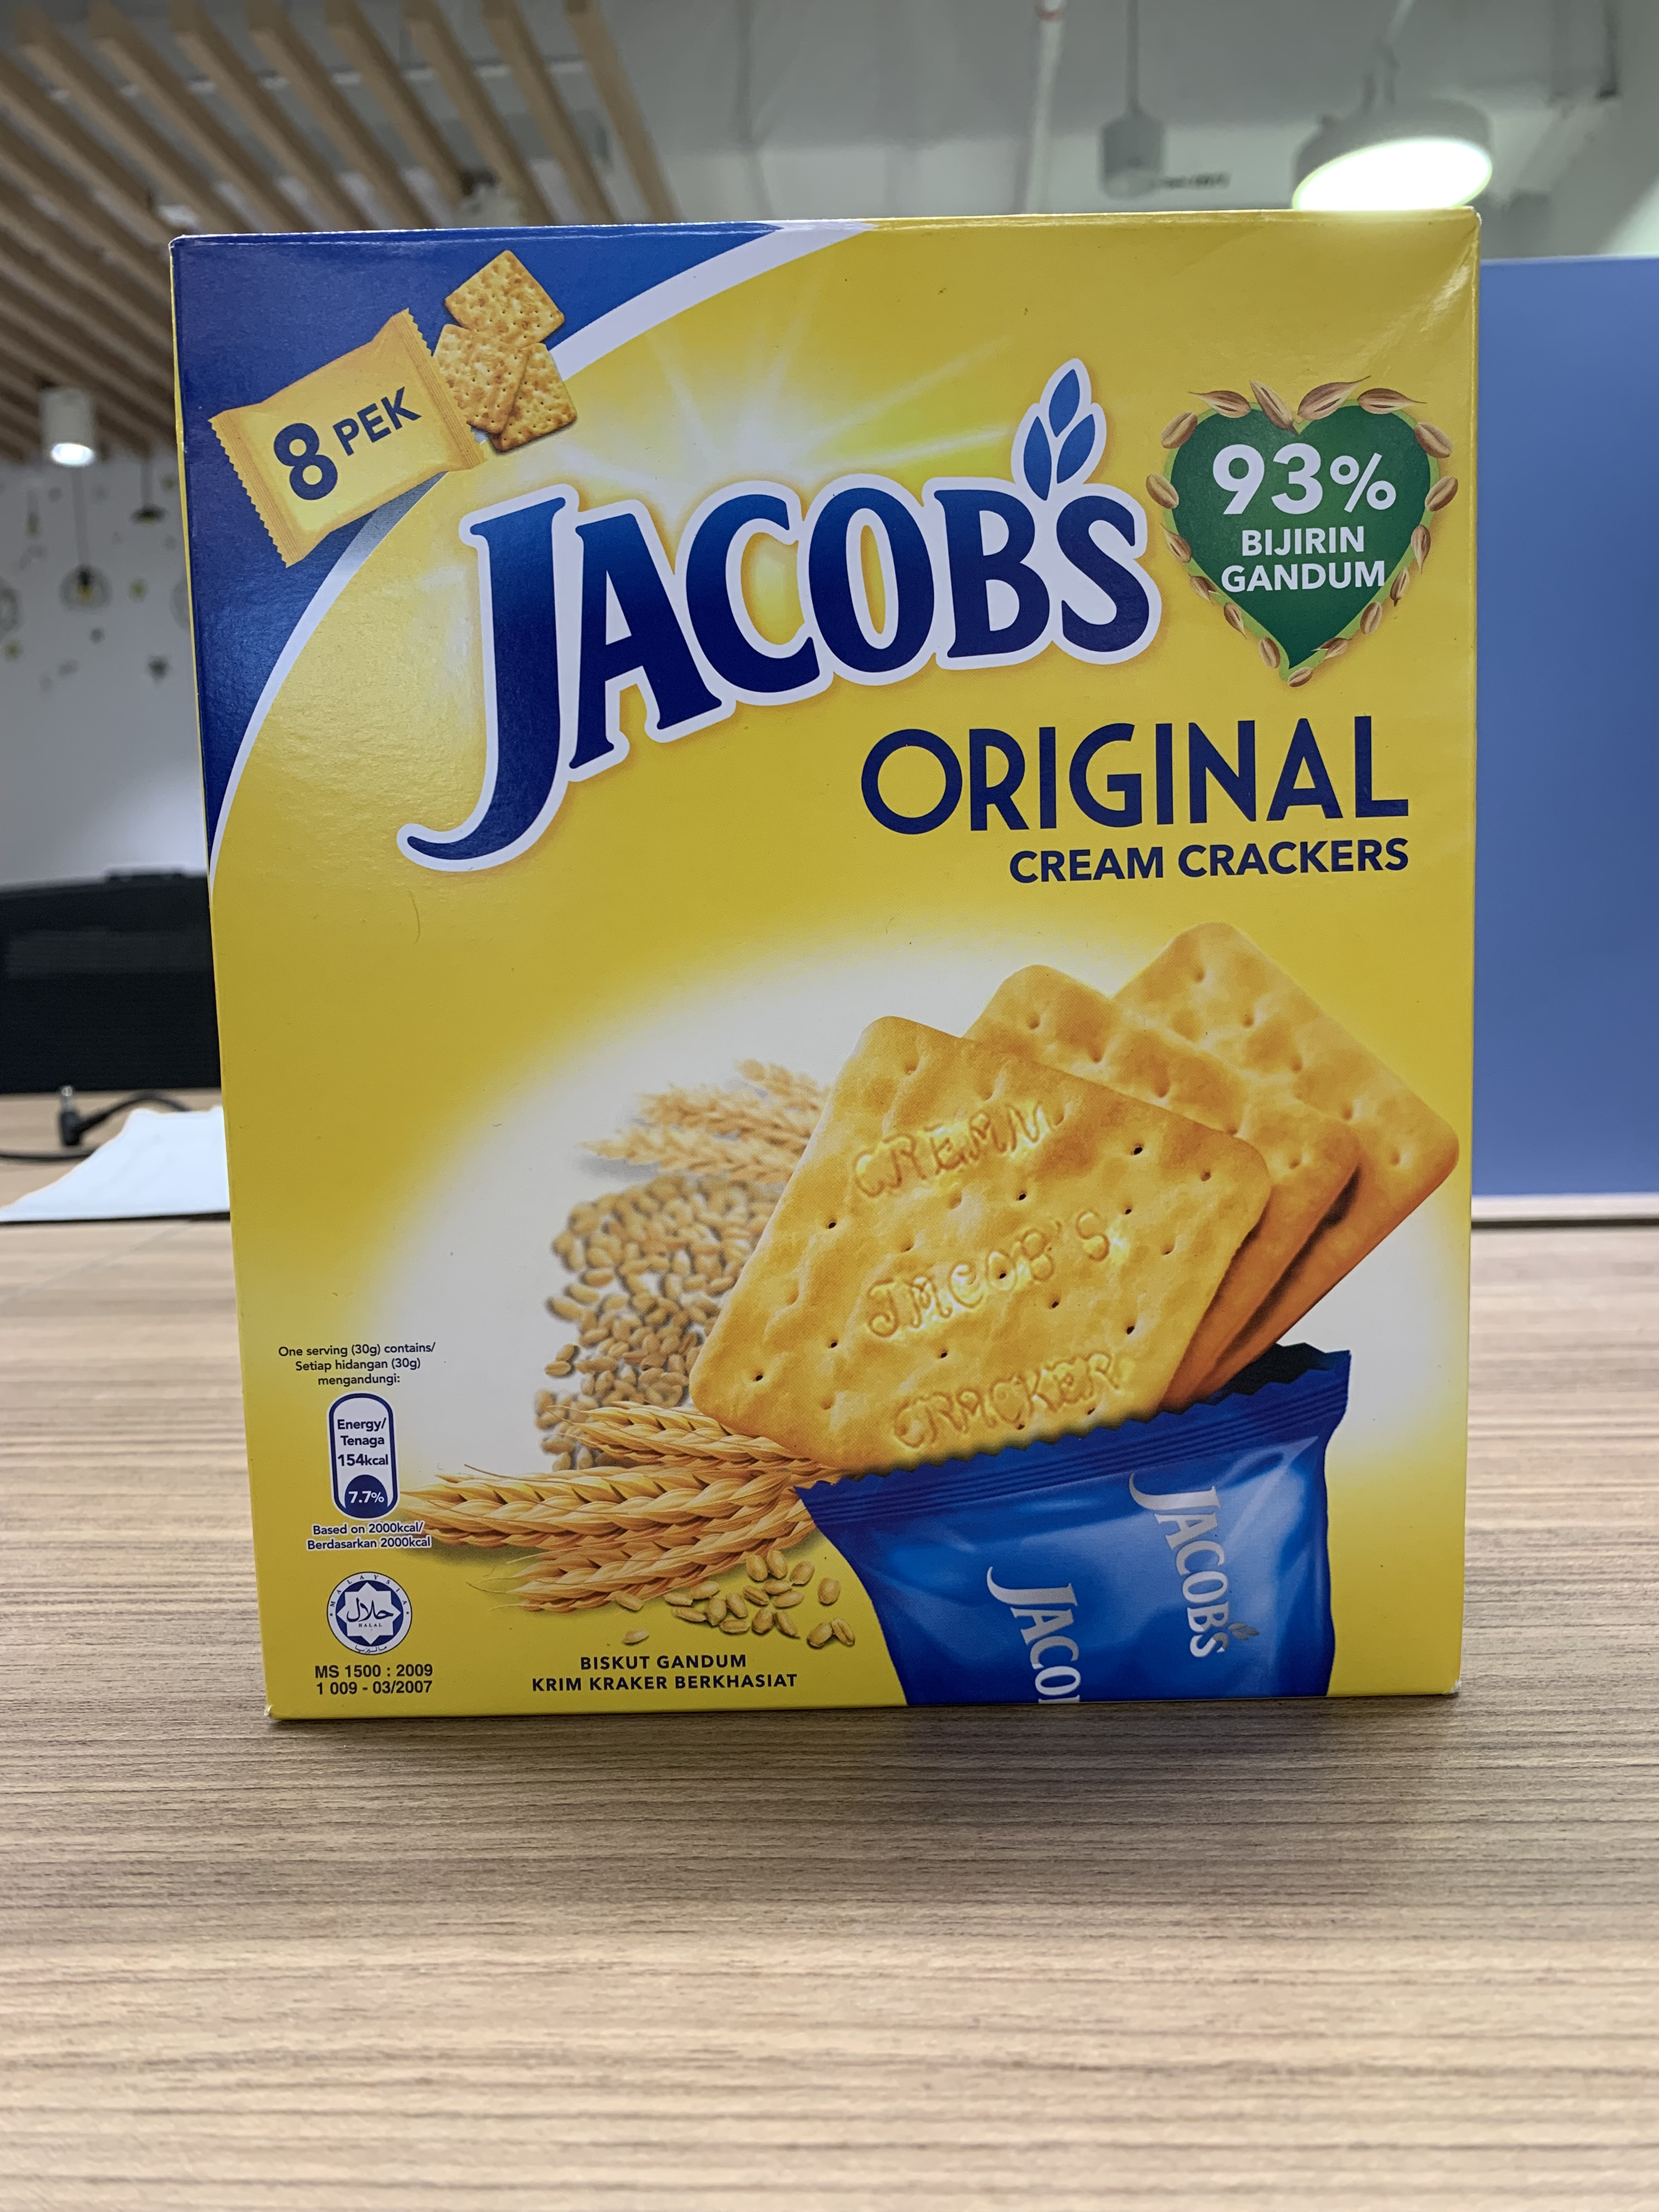crackers_200g-299g: (239, 246, 1466, 1707)
